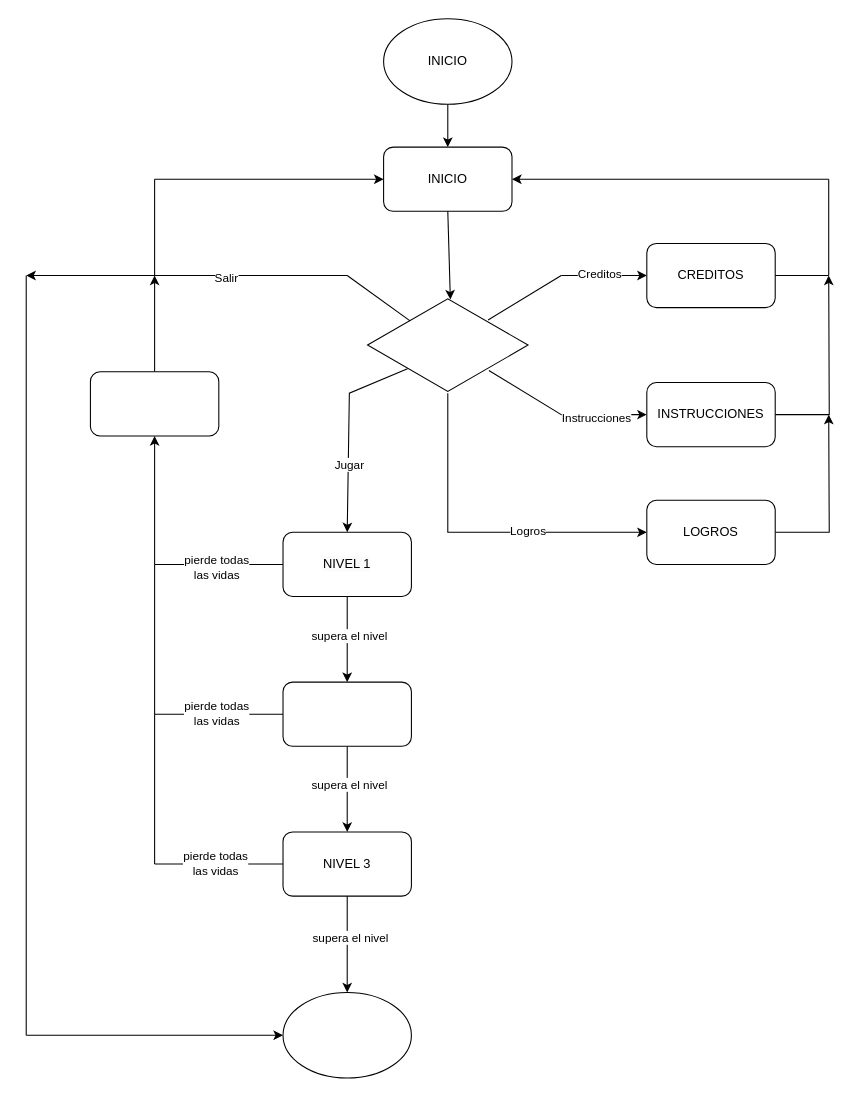
Some shapes in this 857 by 1097 pixel diagram are drawn without their labels. The shapes that lost their labels are listed below. From the top down, each one's centre as x and y in pixels, then its label:
point 447,344: MENU
point 154,403: PERDIO
point 346,713: NIVEL 2
point 346,1034: FIN
